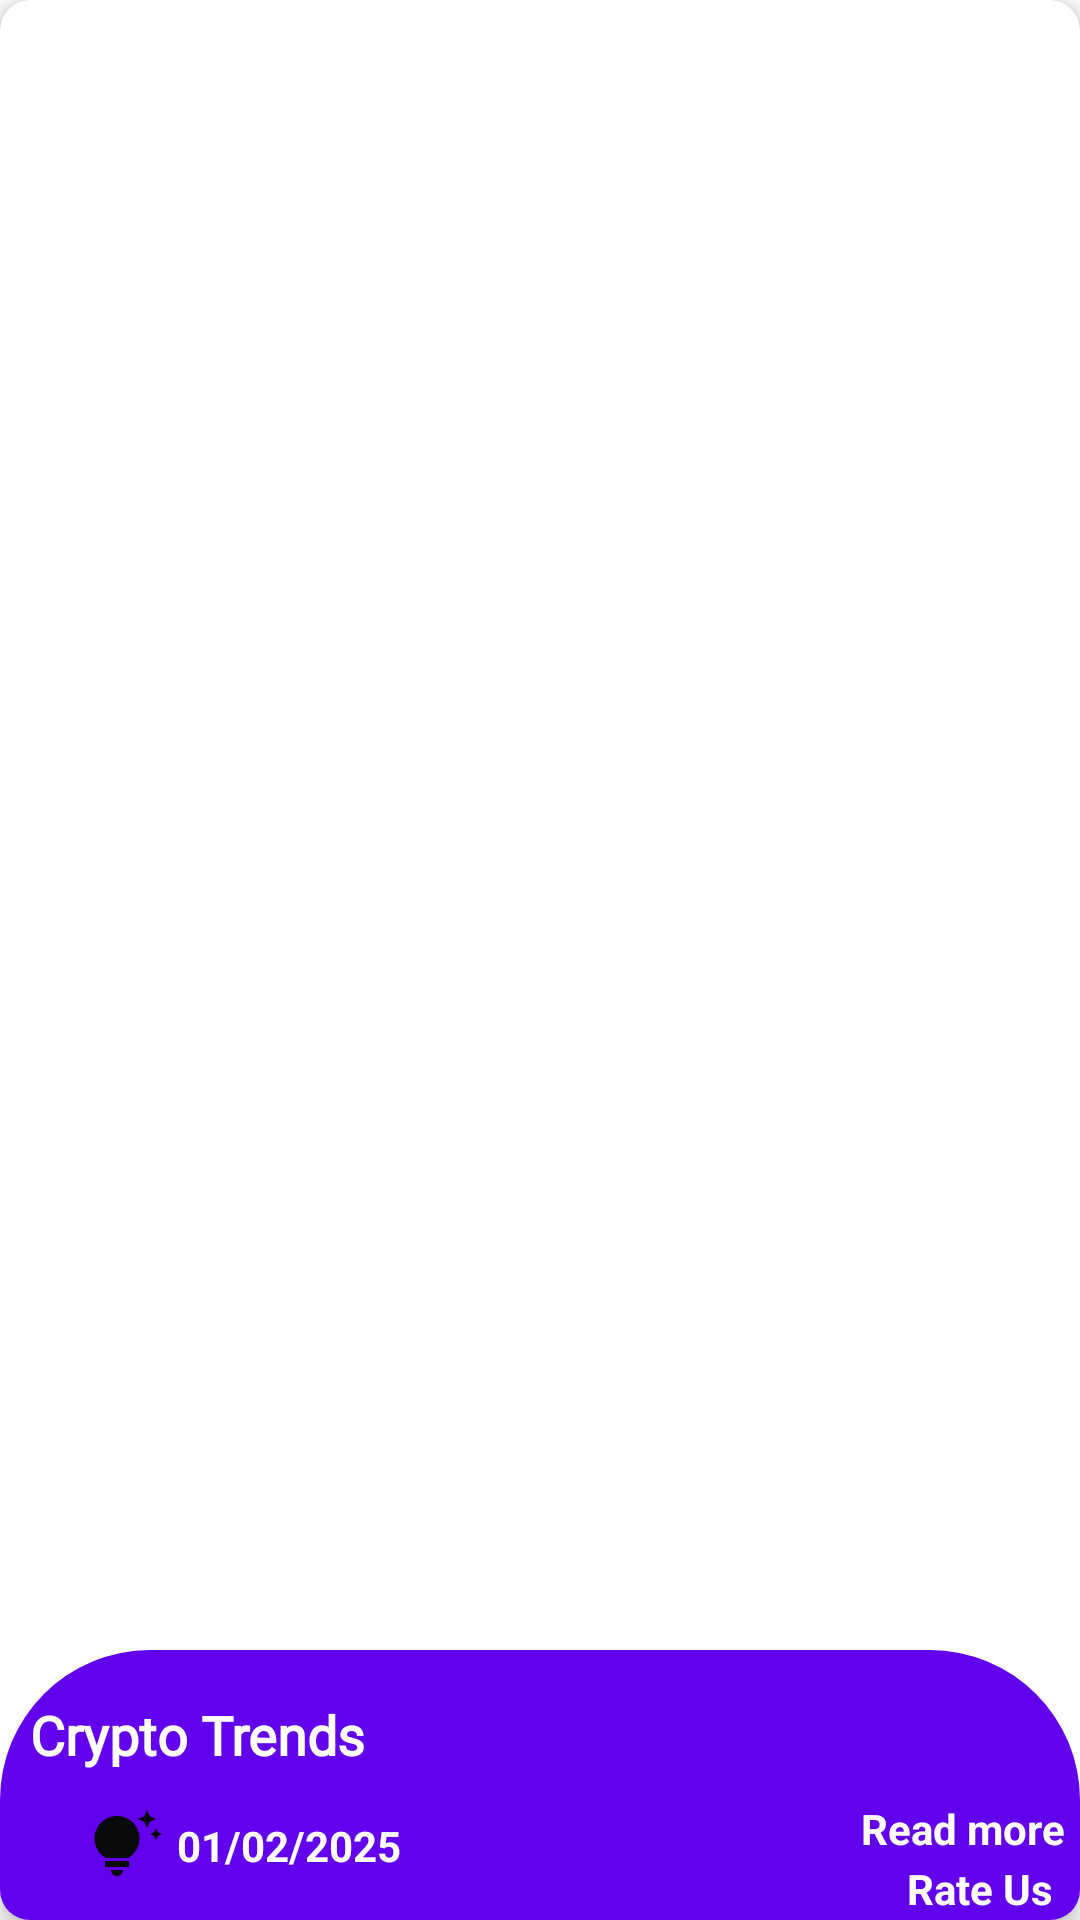

Where to tap for icons on this 1080x1920 app screen, as point (x, y):
tips and updates: point (128, 1843)
